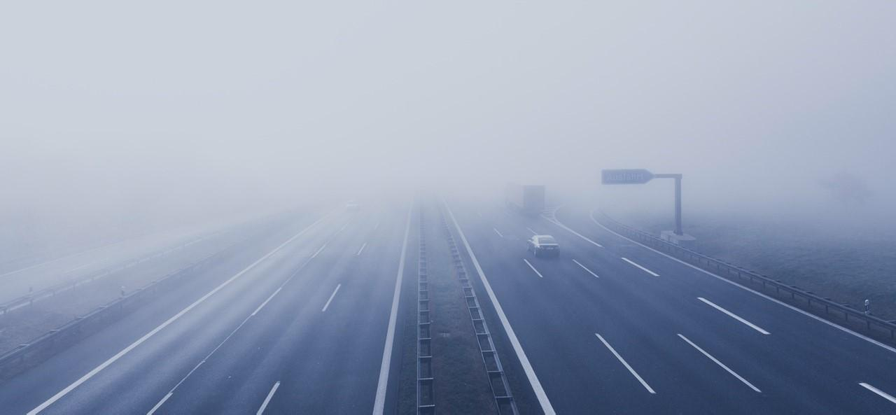bus: (503, 182, 547, 220)
car: (526, 234, 562, 260), (346, 199, 361, 212)
